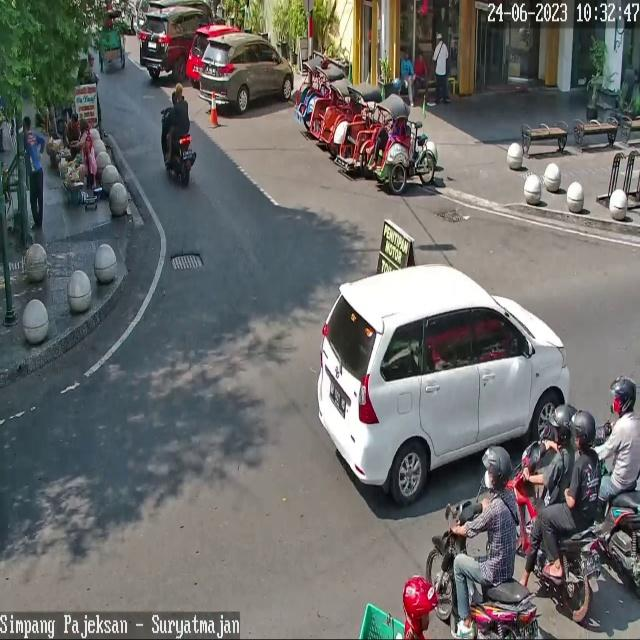bus: (506, 438, 600, 622), (426, 501, 537, 640), (596, 420, 640, 598), (162, 106, 196, 187)
motorcycle: (318, 265, 570, 505), (199, 34, 295, 112), (140, 8, 212, 82), (186, 24, 243, 80)
